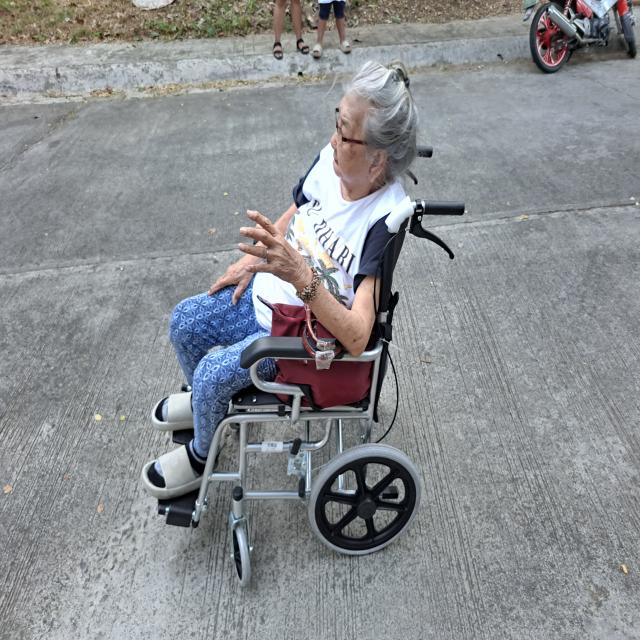wheelchairs: (161, 210, 443, 587)
